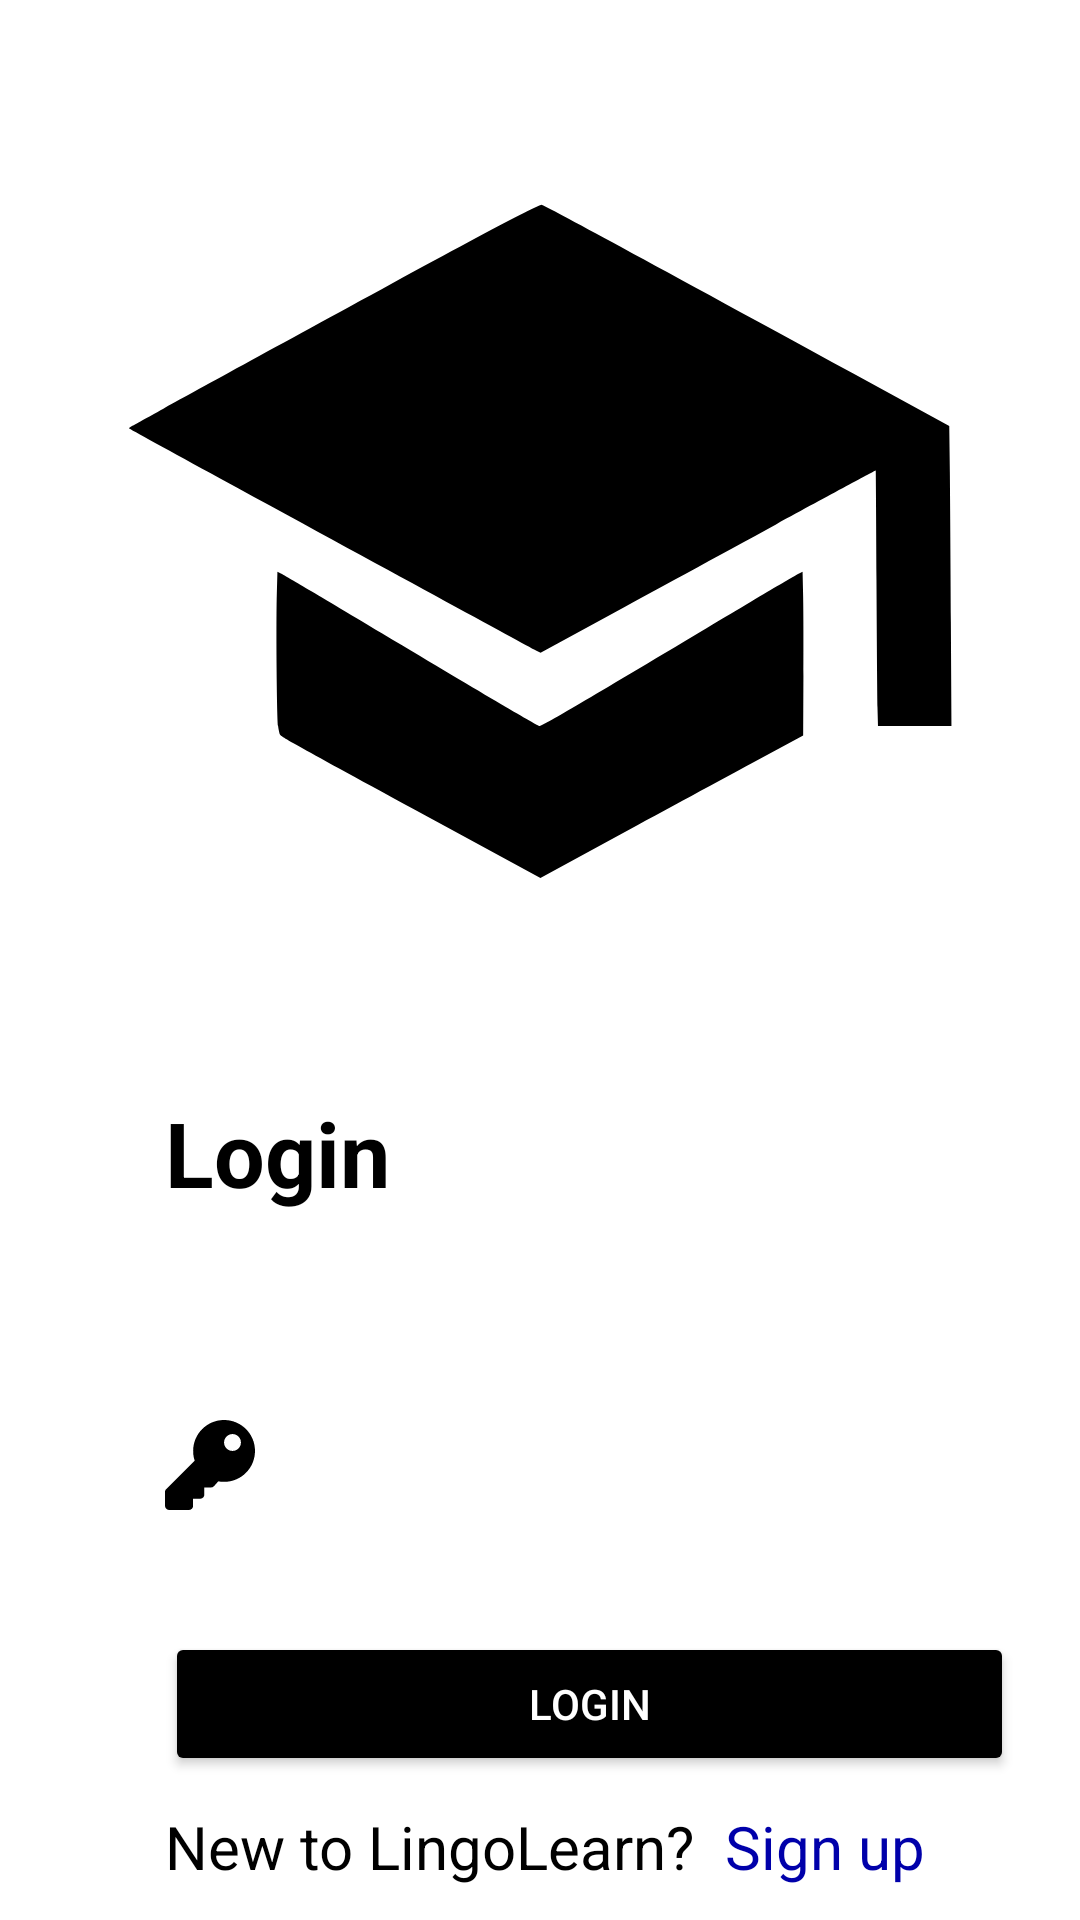

Named icons in this screenshot (1080*1920) and their bounding boxes, (x1, y1, x2, y2):
key: (165, 1420, 255, 1510)
